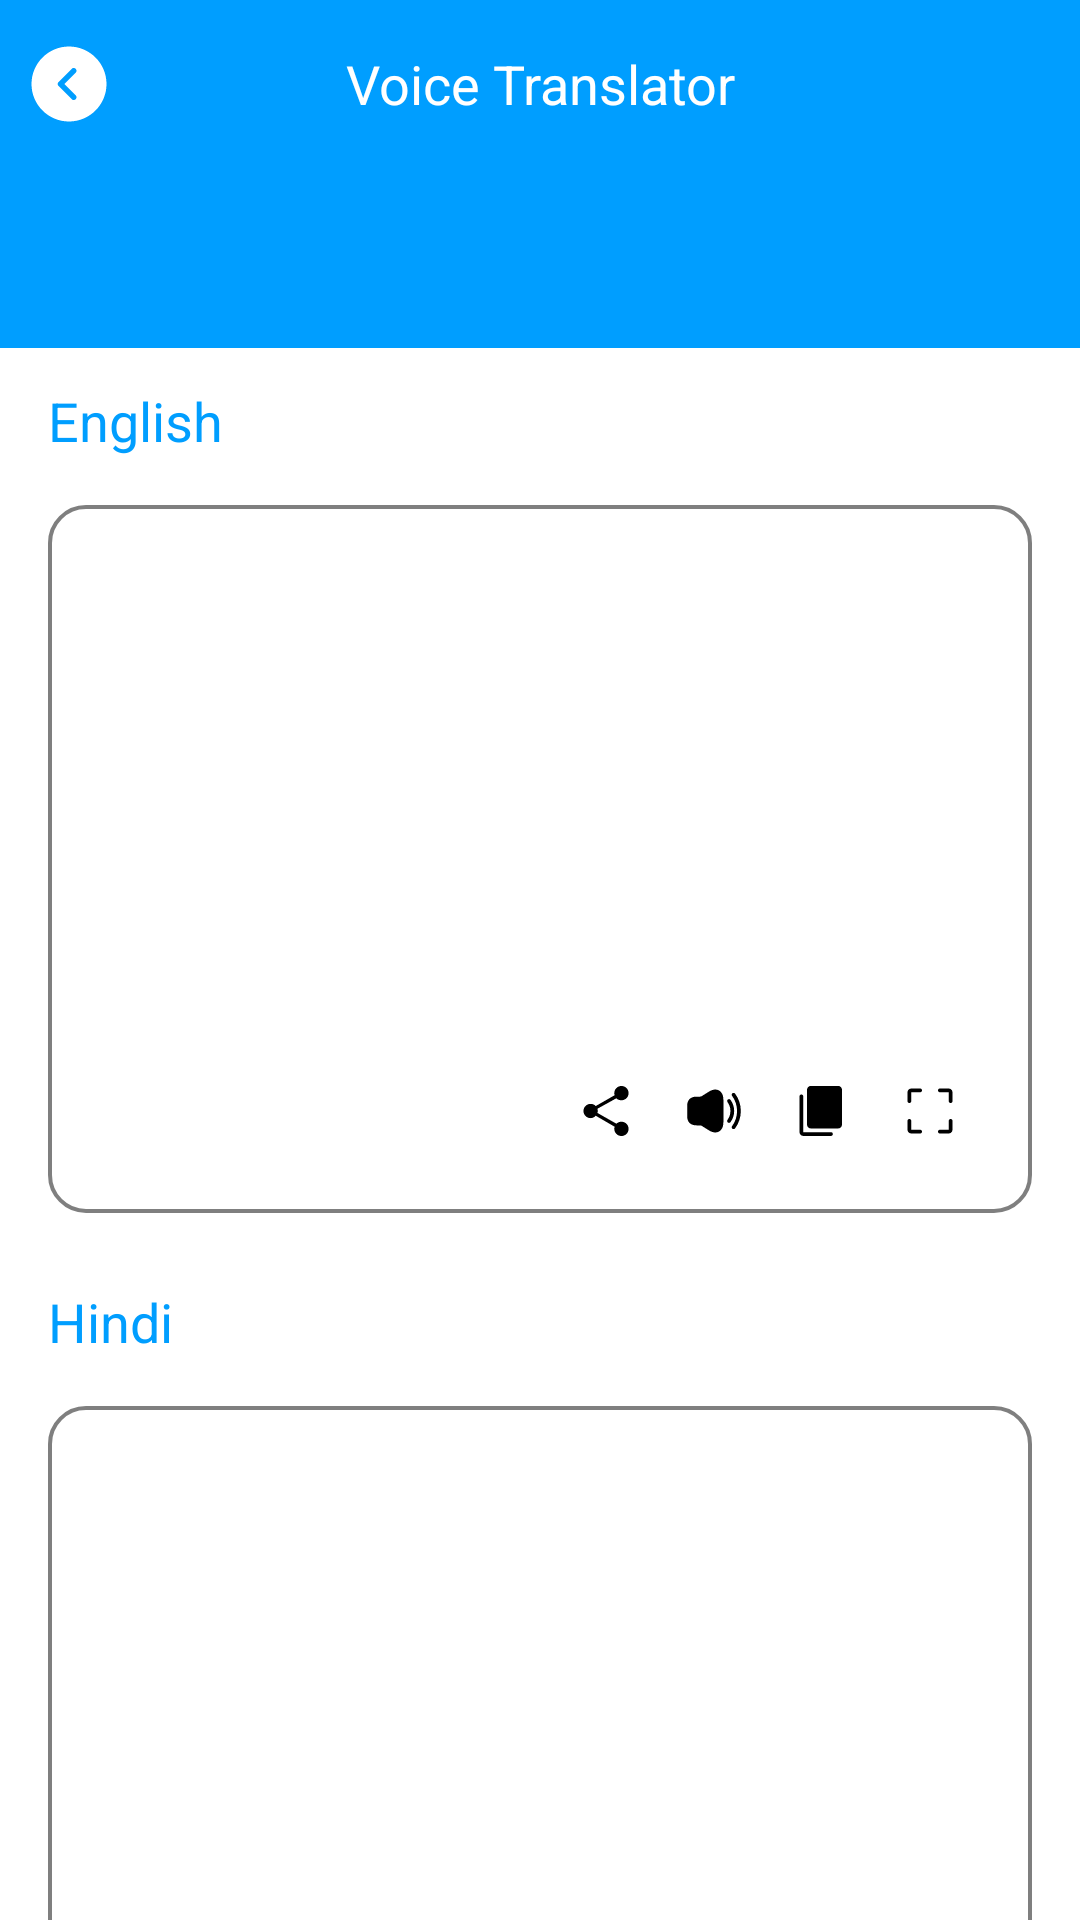

Screen size 1080w x 1920h. Icon name, then its center in pixels as point (x, y):
back circle: point (69, 84)
share: point (606, 1111)
speaker: point (714, 1111)
zoom: point (930, 1111)
